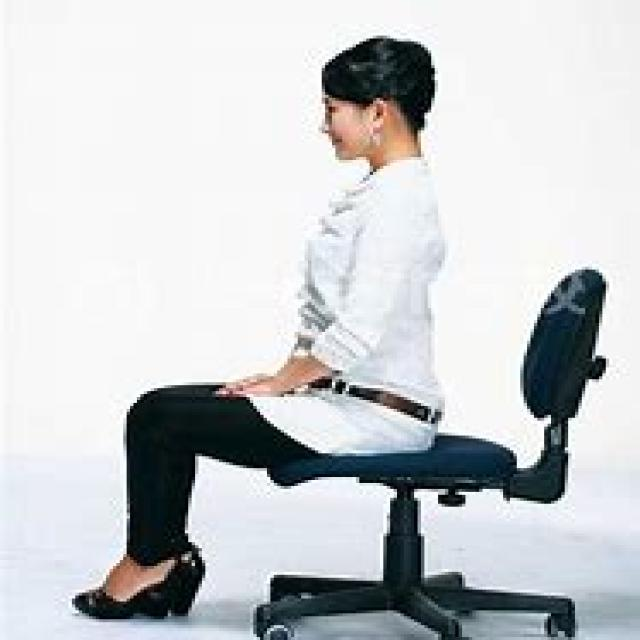sit: (99, 36, 468, 602)
